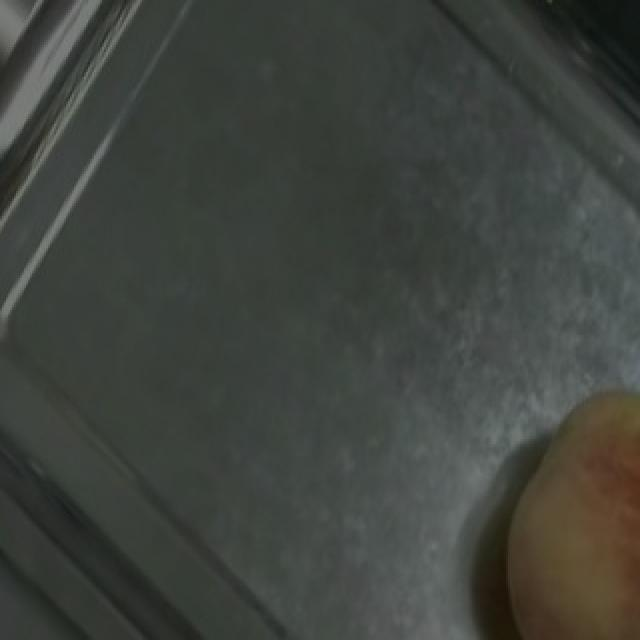Fruit: (470, 364, 640, 640)
